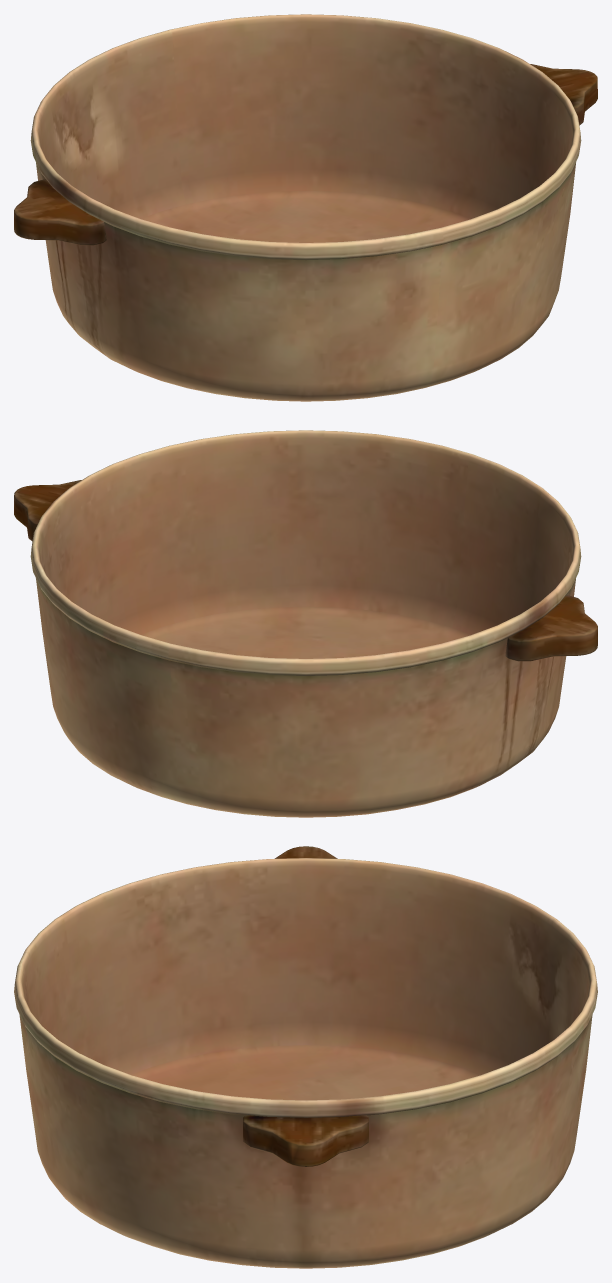
File: brass_pot_02.glb
3 views of the same model, one above another, from view 1: azimuth 30°, elevation 25°; view 2: azimuth 150°, elevation 25°; view 3: azimuth 270°, elevation 25° (orthographic). The views are drawn at different scales.
Parts seen in each view (by area): view 1: brass_pot_02; view 2: brass_pot_02; view 3: brass_pot_02.
Boxes of the visible parts, <box> form: brass_pot_02: <box>14,14,597,401</box>; brass_pot_02: <box>14,430,597,817</box>; brass_pot_02: <box>14,846,597,1268</box>.
Bounding box in the file's own units: 0.3666 × 0.1086 × 0.3023.
Materials: 1 (1 with a texture image).
